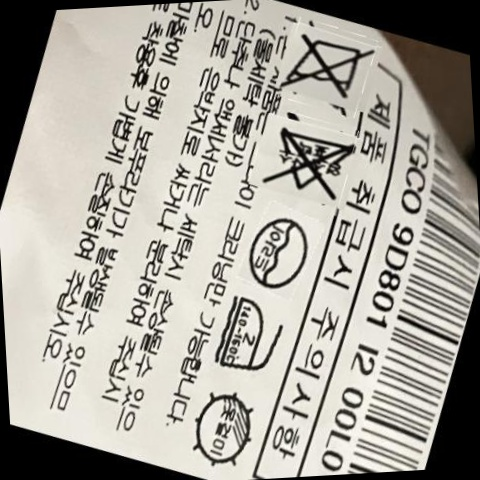DN_bleach: (258, 128, 360, 202)
DN_wash: (284, 36, 379, 107)
dry_clean: (246, 211, 322, 292)
iron_medium: (212, 293, 296, 375)
line_dry_in_shade: (188, 389, 262, 473)
